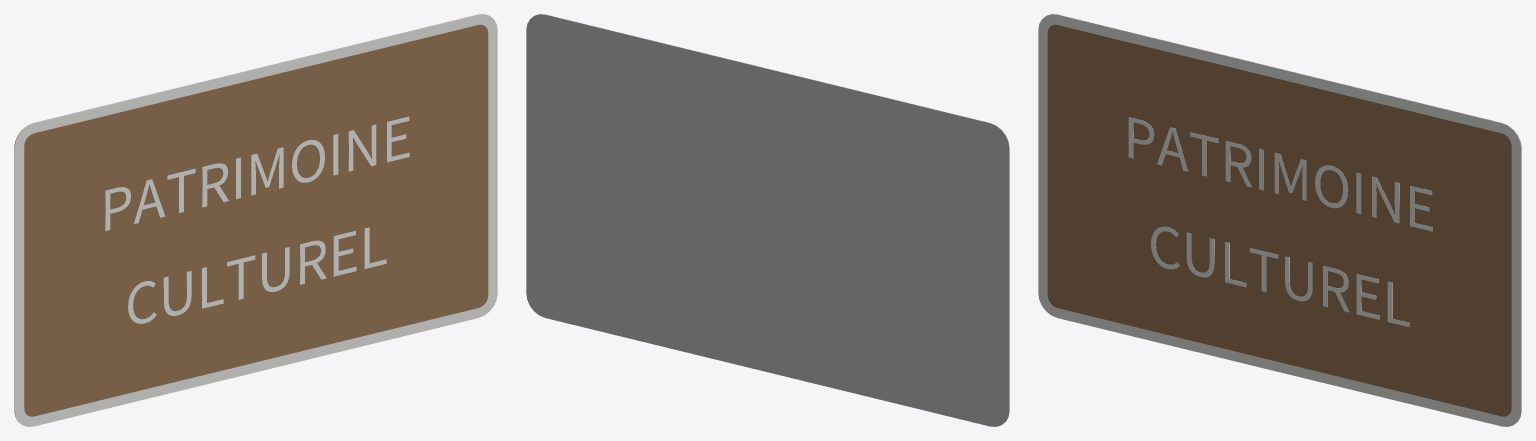
The picture shows the model from 3 angles, left to right: view 1: azimuth 30°, elevation 25°; view 2: azimuth 150°, elevation 25°; view 3: azimuth 330°, elevation 25°; orthographic projection.
Visible parts, largest first — view 1: H30_r01, H30_r00, H30_txt02, H30_txt03, H30_dos; view 2: H30_dos; view 3: H30_r01, H30_r00, H30_txt02, H30_txt03, H30_dos.
Part boxes in pixels (box(x1,y1,x2,y2)): H30_r01: box(24, 24, 488, 416); H30_r00: box(14, 14, 497, 426); H30_txt02: box(105, 116, 409, 230); H30_txt03: box(128, 227, 386, 323); H30_dos: box(14, 14, 487, 420); H30_dos: box(526, 14, 1009, 426); H30_r01: box(1047, 24, 1511, 416); H30_r00: box(1038, 14, 1521, 426); H30_txt02: box(1128, 117, 1432, 231); H30_txt03: box(1151, 226, 1409, 326); H30_dos: box(1048, 14, 1521, 420).
Size of the model in its own units: 1 by 0.6 by 0.0029.
